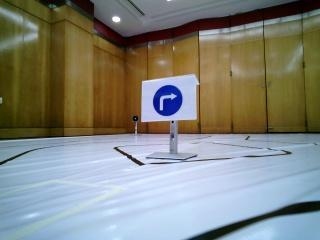right: (141, 80, 197, 118)
